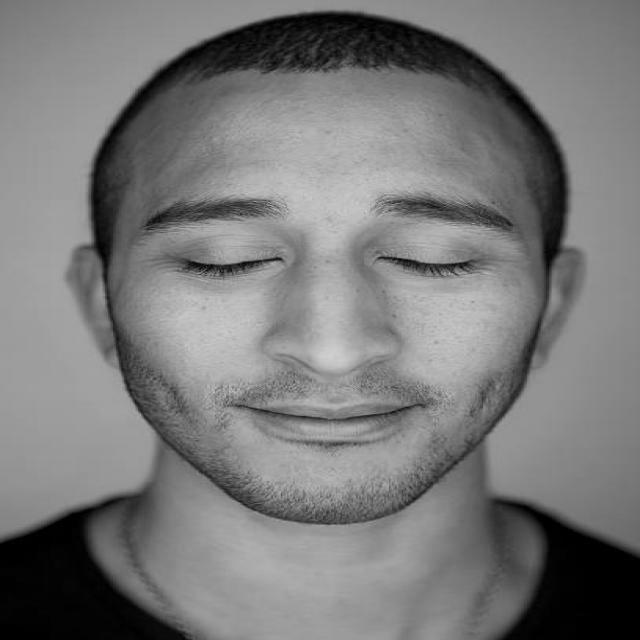real: (67, 25, 586, 526), (104, 181, 533, 292)
